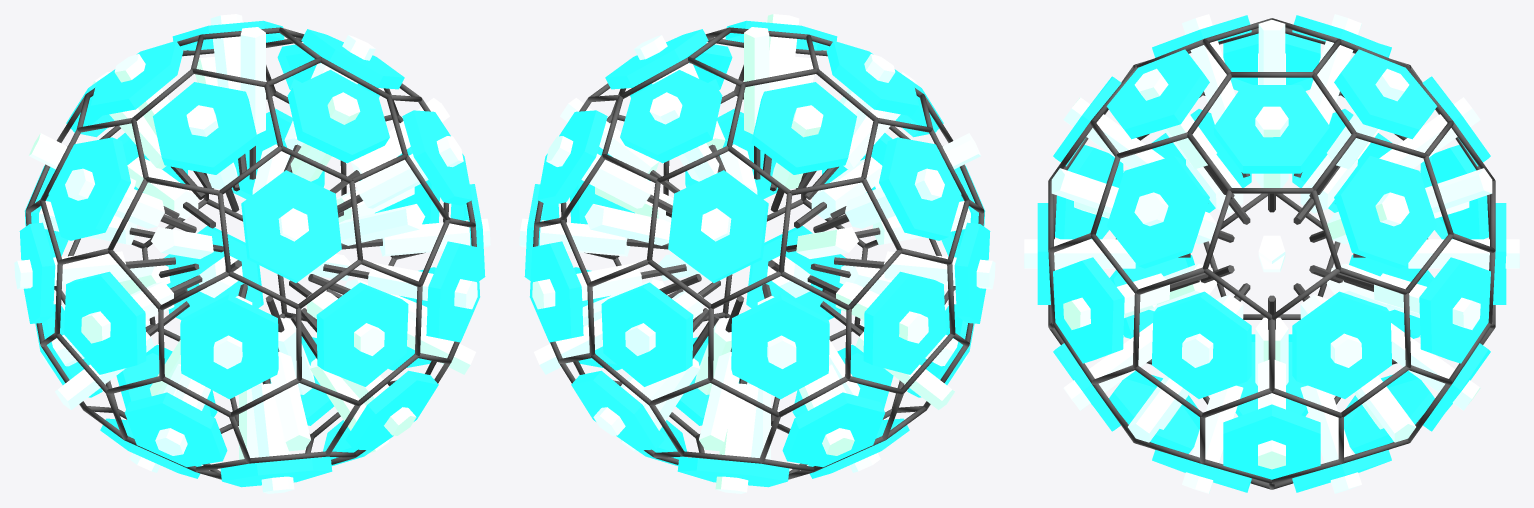
3 views of the same model, side by side, from view 1: azimuth 30°, elevation 25°; view 2: azimuth 150°, elevation 25°; view 3: azimuth 270°, elevation 25° (orthographic). The views are drawn at different scales.
Parts seen in each view (by area): view 1: Cube; view 2: Cube; view 3: Cube.
Boxes of the visible parts, bbox=[...] form: Cube: bbox=[14, 14, 490, 493]; Cube: bbox=[519, 14, 995, 493]; Cube: bbox=[1024, 14, 1519, 493].
Bounding box in the file's own units: 347 × 364 × 358.
